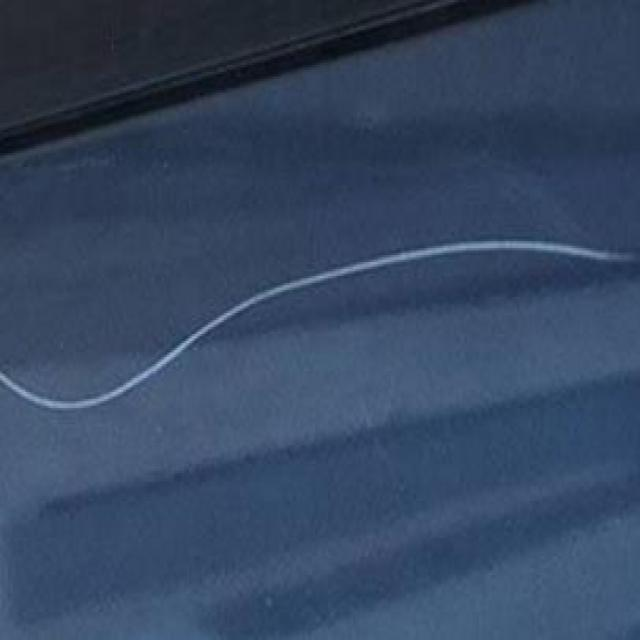scratch: (0, 221, 638, 423)
